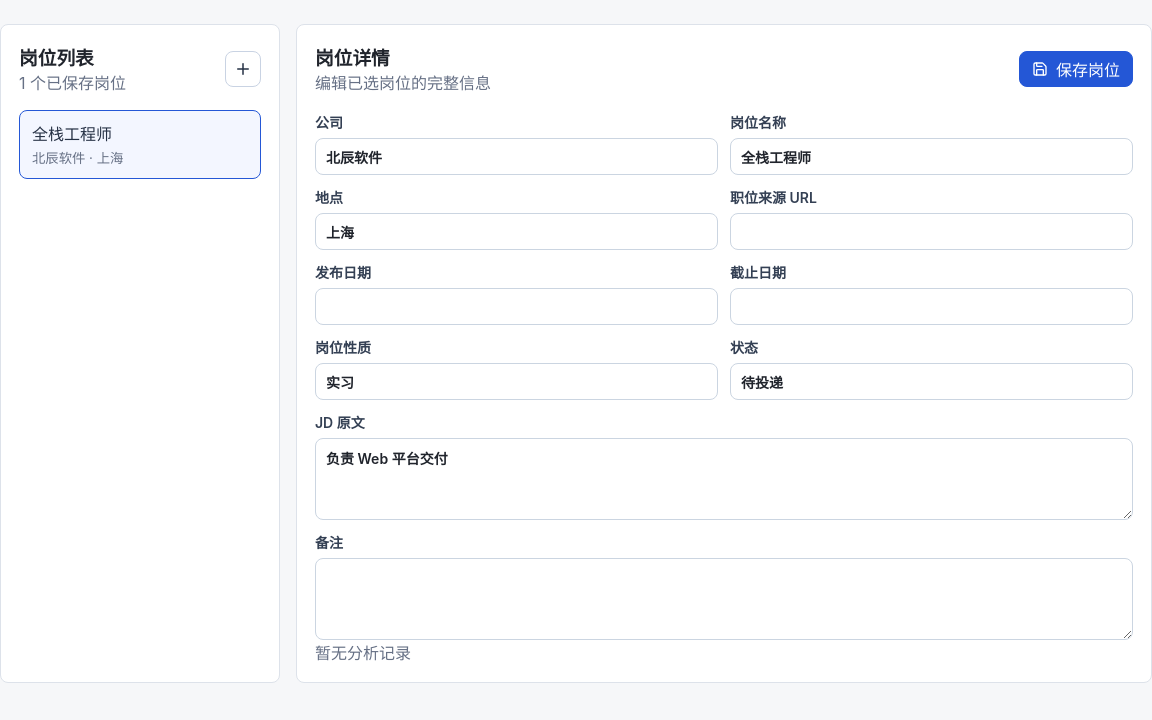
Test: JobsPage › does not show A's late successful analysis after selecting B
Expected: the field showing "全栈工程师" is shown, [730,138,1133,175]
Click the button named "新增岗位".
click(243, 68)  # box [225,50,261,86]
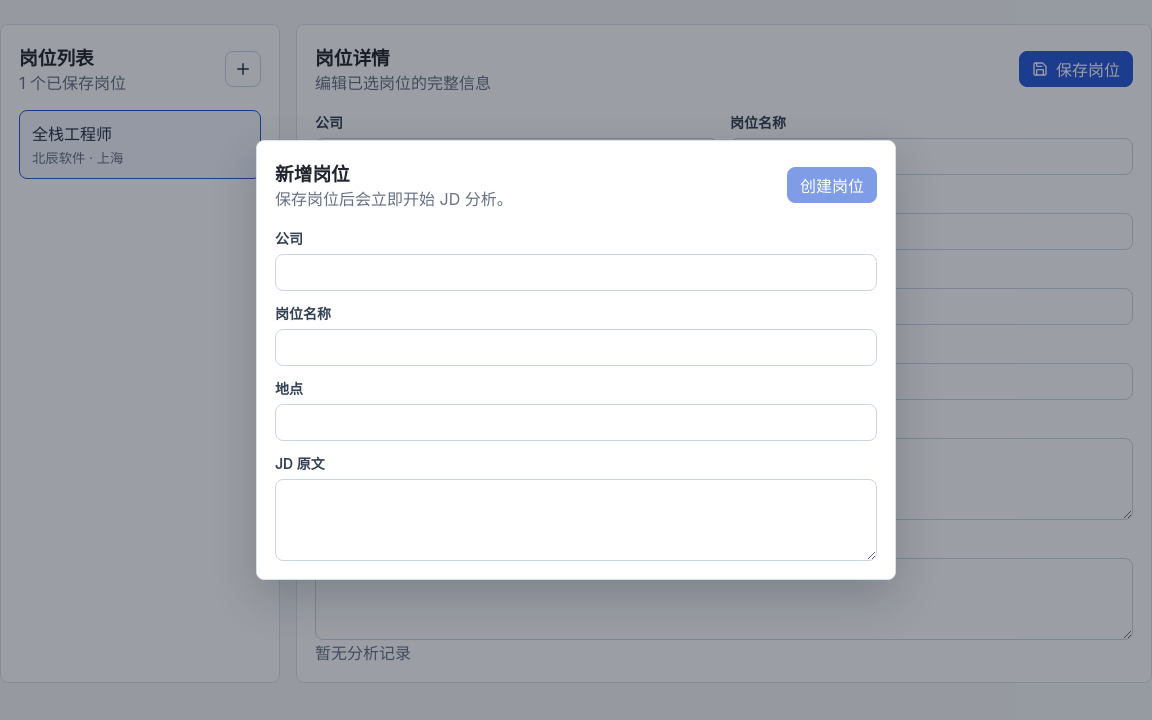
Type "A JD" into the text box labelled "JD 原文".
click(576, 520); type("A JD")  # box [275,479,877,561]
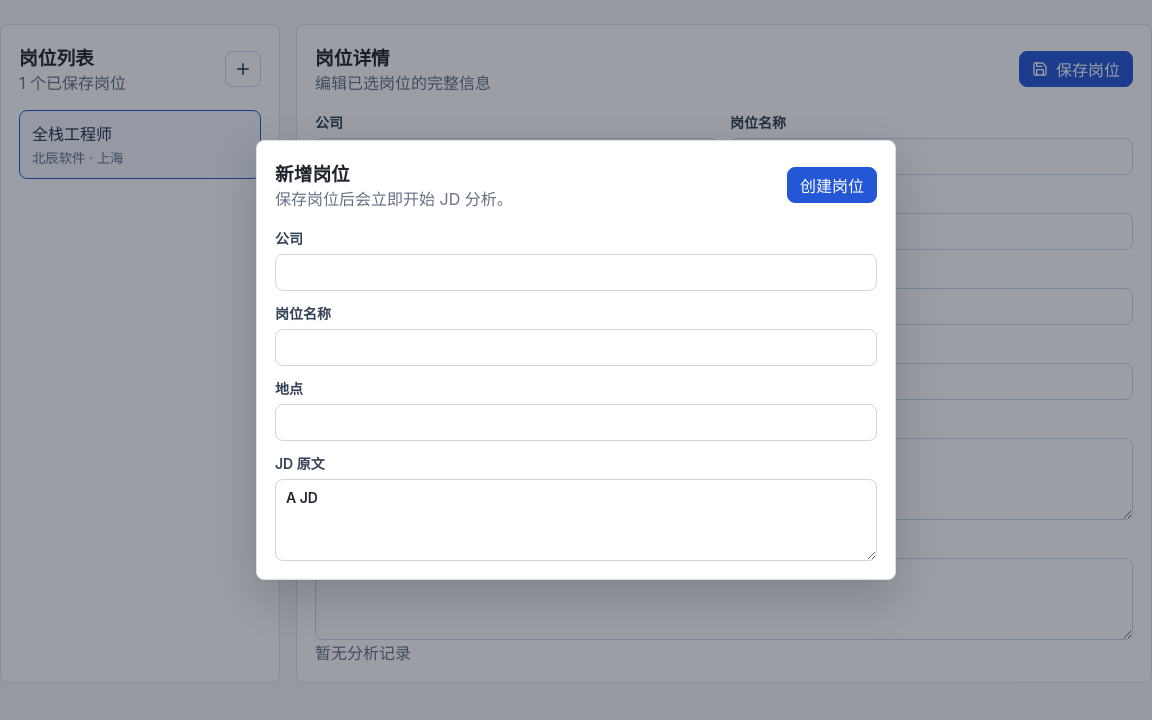
Click the button "创建岗位".
click(832, 184)  # box [787,166,877,202]
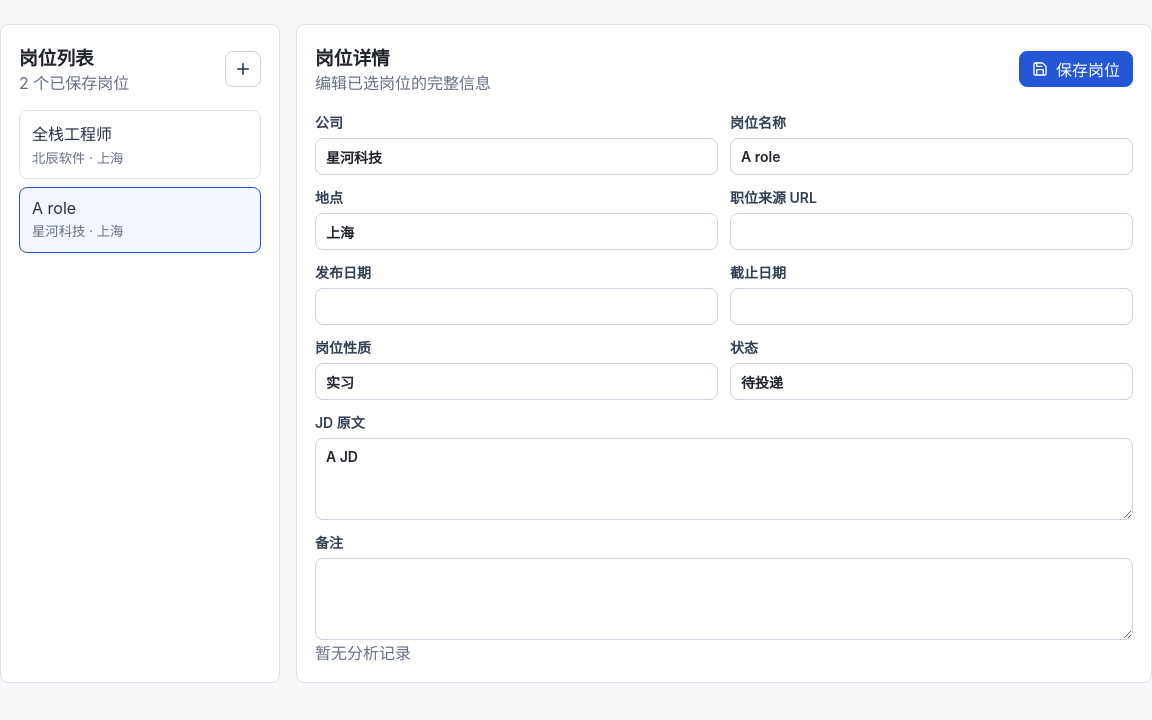
Click the button "全栈工程师 北辰软件 · 上海".
click(140, 145)  # box [19,110,261,179]
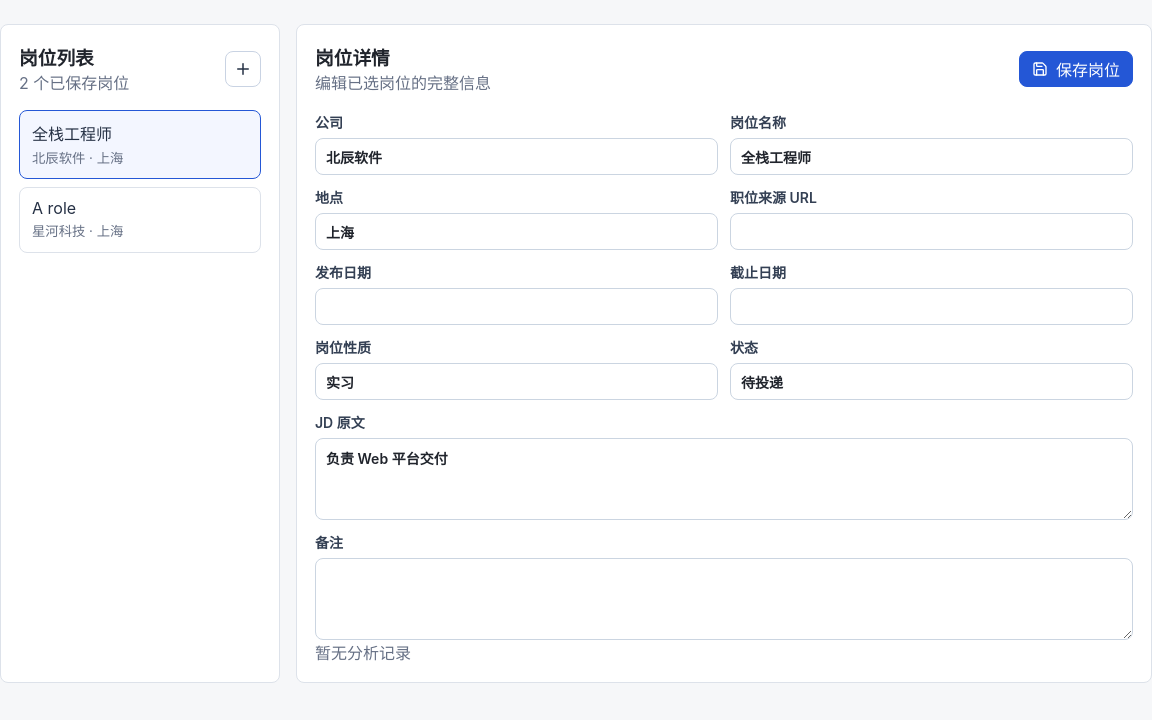
Expected: the text "JD 分析" is not shown
Result: the field labelled "岗位名称" holds "全栈工程师" at [730,138,1133,175]
